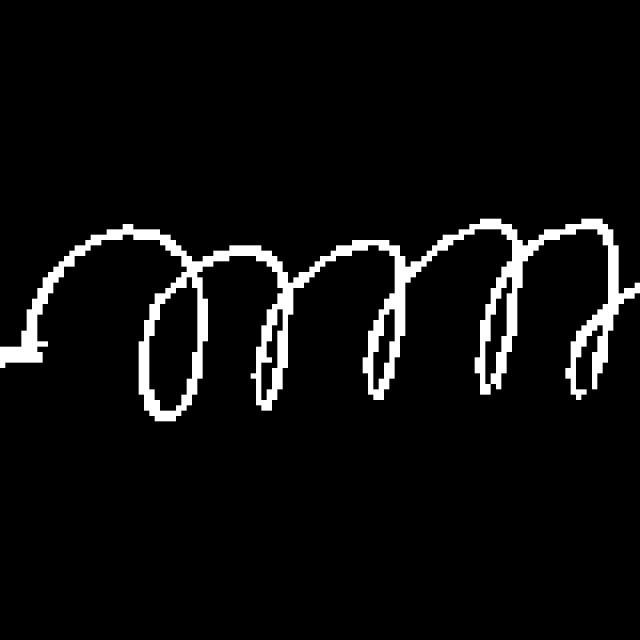inductor: (22, 195, 635, 433)
